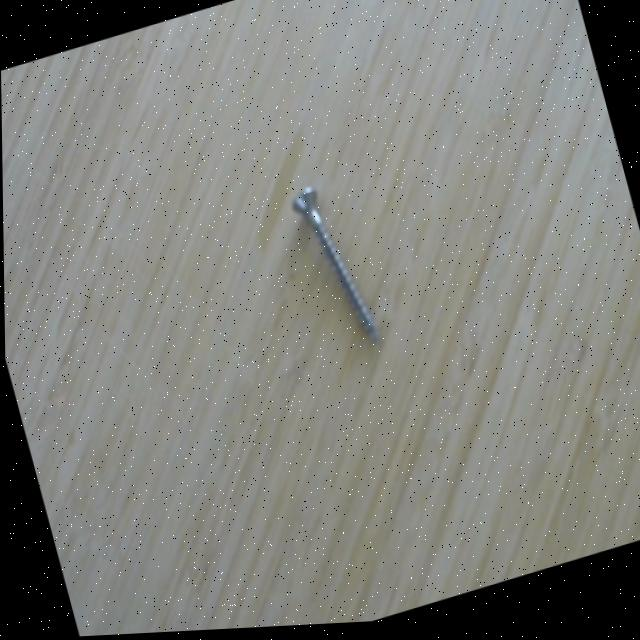Black screw: (281, 169, 393, 368)
